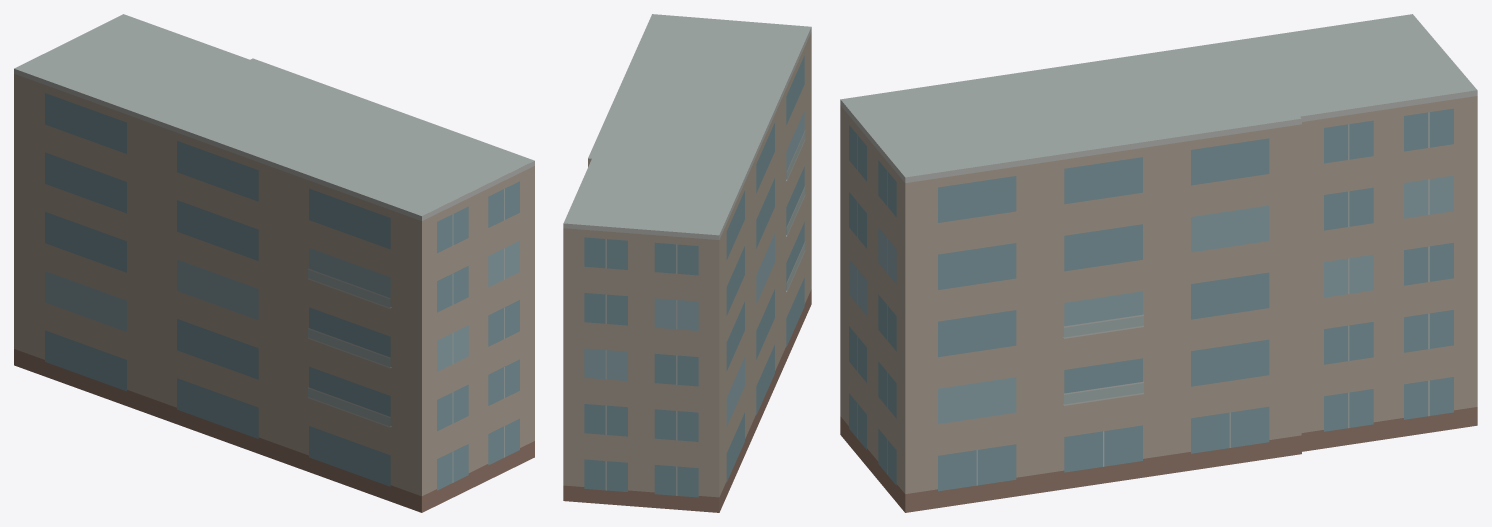
Rendered from survey-upis-32571433.glb.
3 views of the same model, side by side, from view 1: azimuth 30°, elevation 25°; view 2: azimuth 150°, elevation 25°; view 3: azimuth 270°, elevation 25° (orthographic). The views are drawn at different scales.
Parts seen in each view (by area): view 1: survey-upis-32571433.tmp; view 2: survey-upis-32571433.tmp; view 3: survey-upis-32571433.tmp.
Boxes of the visible parts, x1,y1,x2,y2 form: survey-upis-32571433.tmp: (14, 14, 534, 512); survey-upis-32571433.tmp: (563, 14, 811, 512); survey-upis-32571433.tmp: (840, 14, 1477, 512).
Size of the model in its own units: 15.06 by 14.4 by 24.8.
